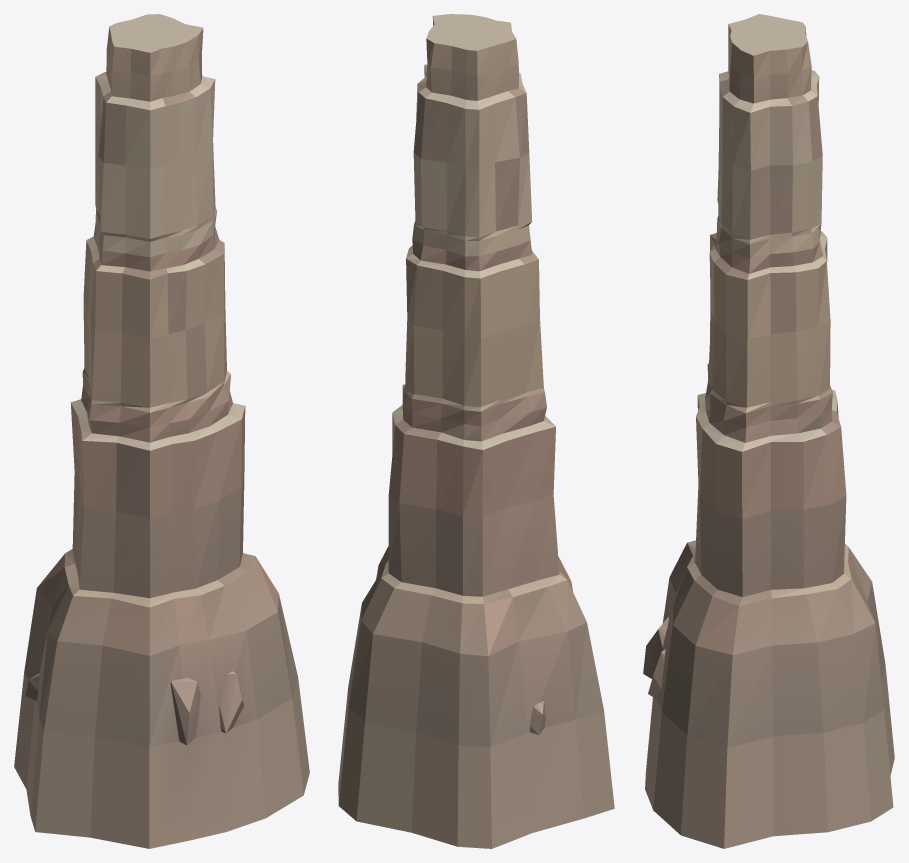
File: mesa_0.glb
The picture shows the model from 3 angles, left to right: view 1: azimuth 30°, elevation 25°; view 2: azimuth 150°, elevation 25°; view 3: azimuth 270°, elevation 25°; orthographic projection.
Size of the model in its own units: 14.4 by 39 by 11.88.
